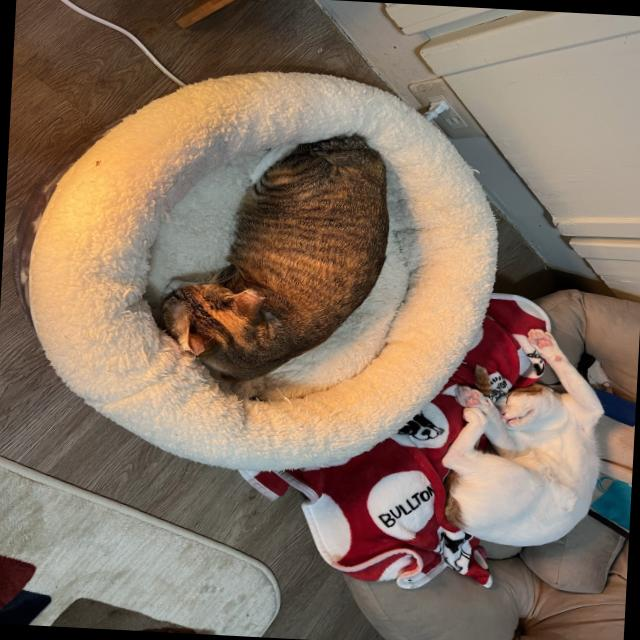cat1: (431, 316, 618, 552)
cat2: (156, 136, 394, 397)
